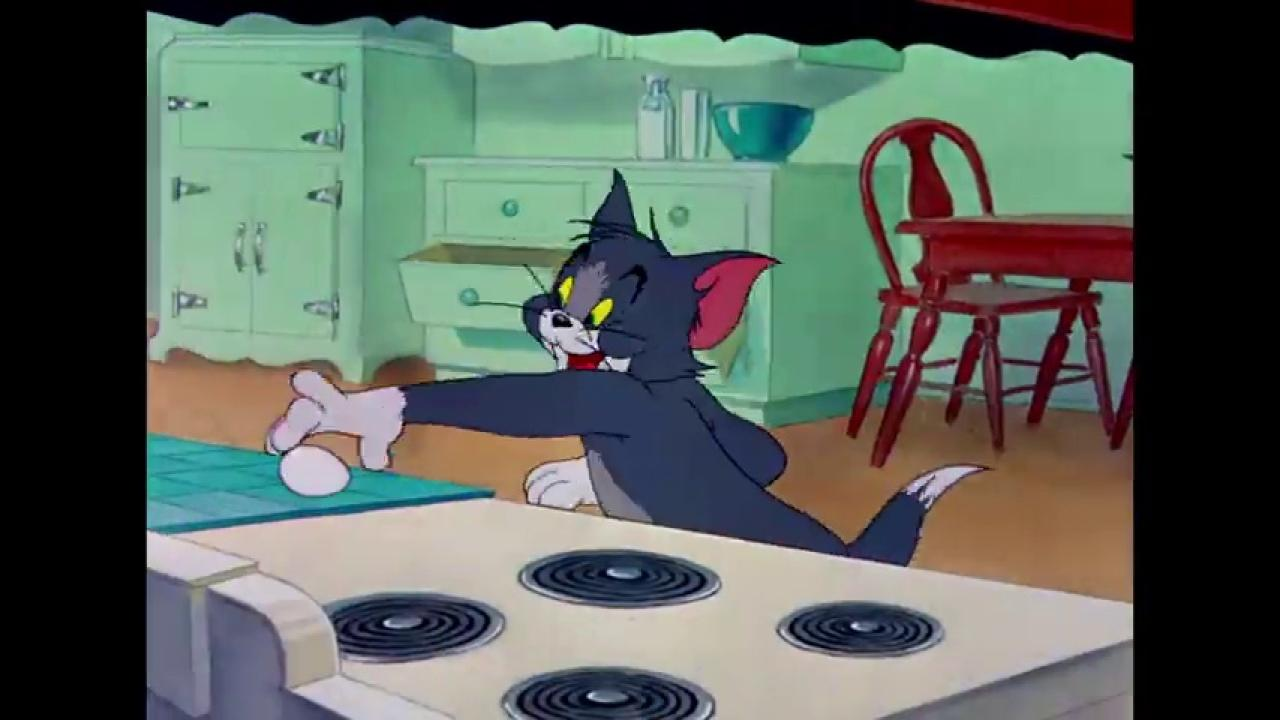Tom: (261, 165, 995, 567)
